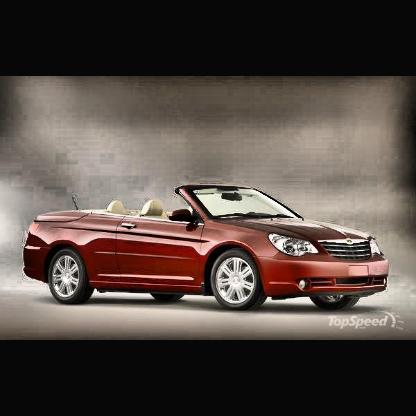Chrysler Sebring Convertible 2010: (23, 184, 391, 315)
